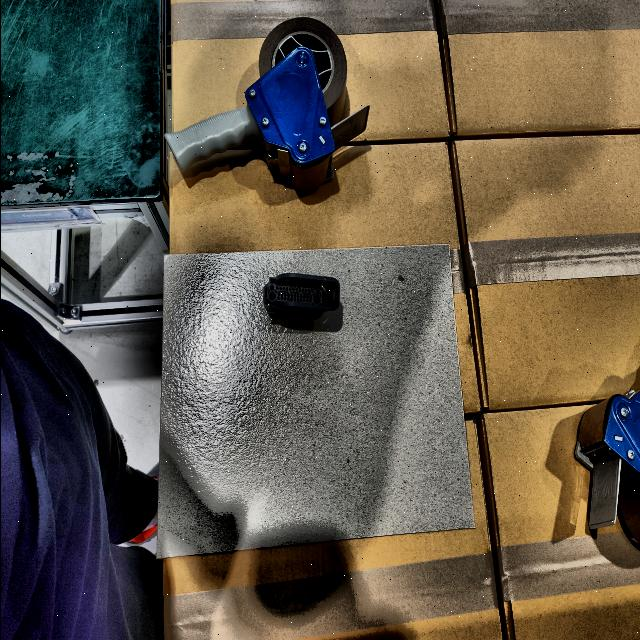P38: (263, 273, 339, 321)
